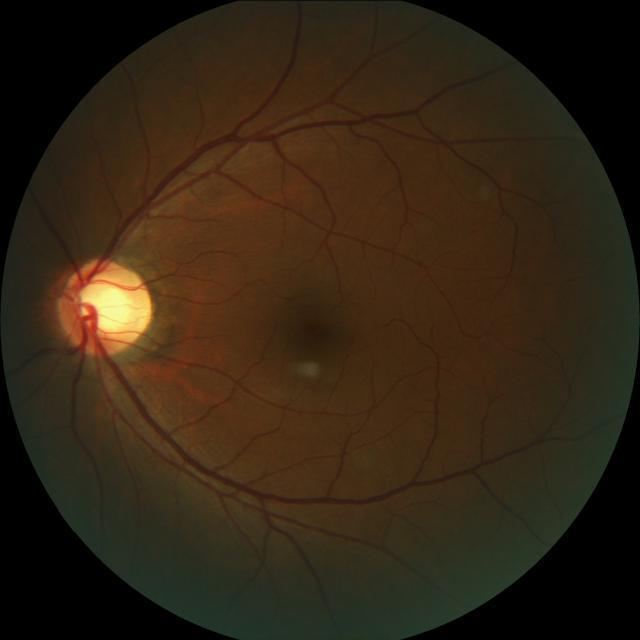OC: (76, 274, 136, 336)
OD: (58, 259, 154, 355)
